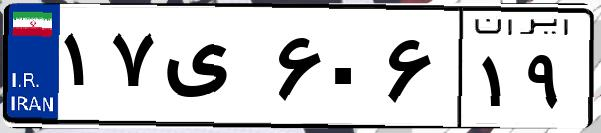0: (330, 28, 385, 110)
1: (57, 26, 110, 100), (475, 38, 525, 113)
6: (270, 28, 330, 110), (385, 28, 445, 110)
7: (110, 28, 158, 98)
9: (525, 38, 570, 115)
ی: (158, 20, 270, 120)
